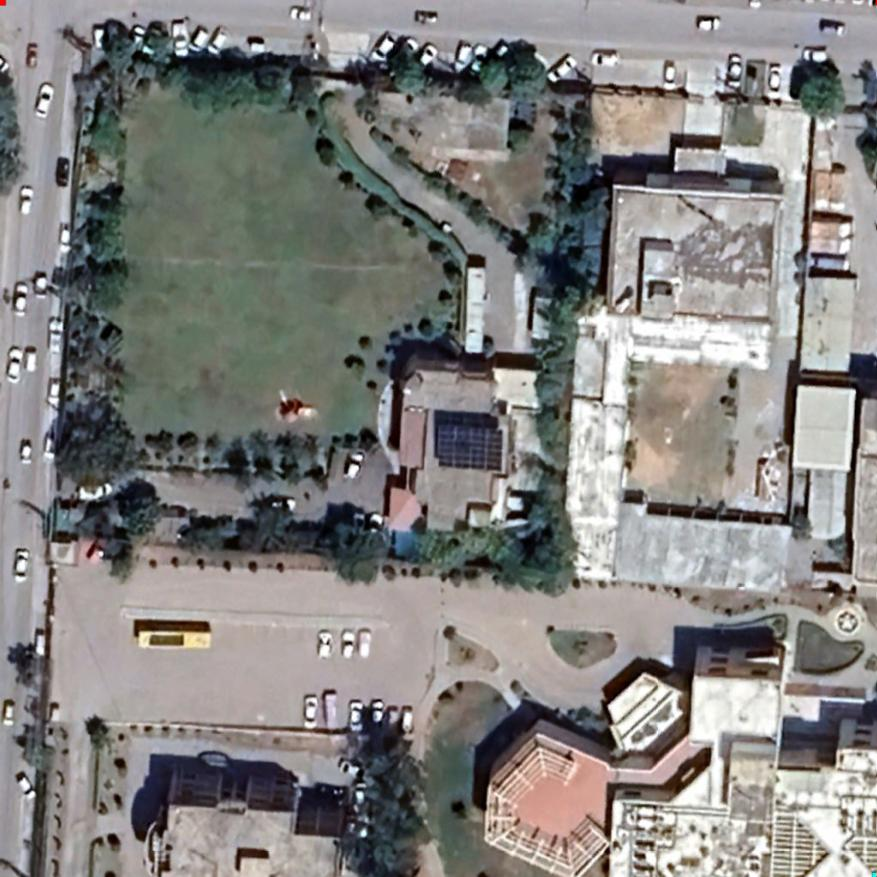Solarpanel: (433, 419, 509, 471)
